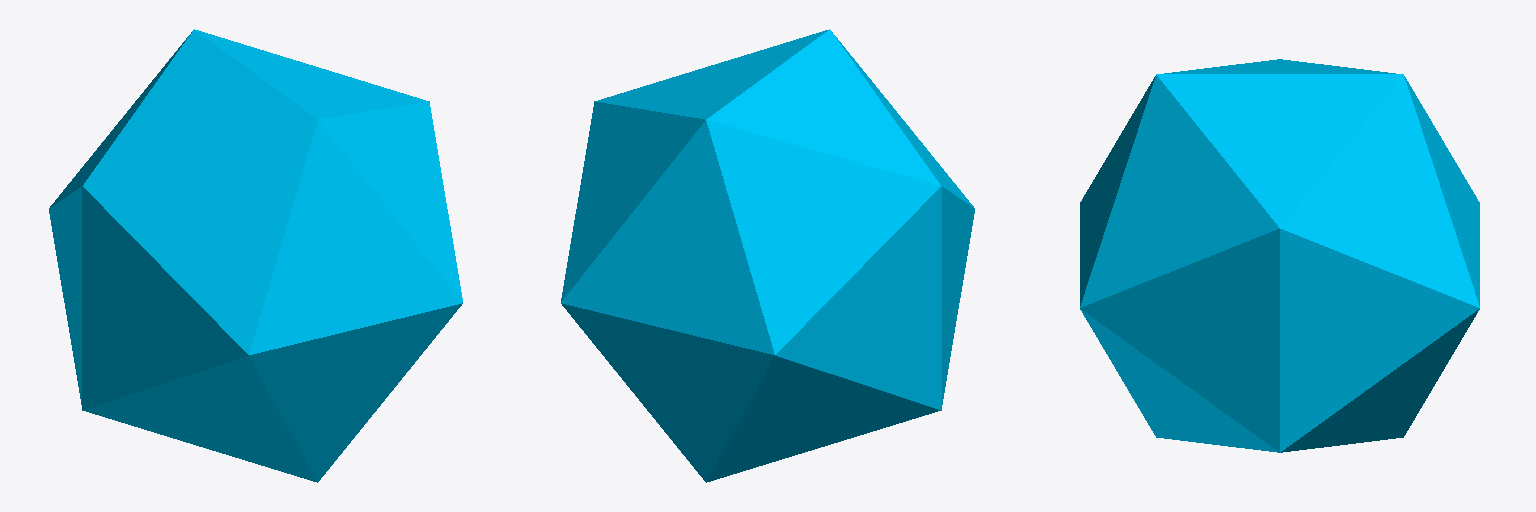
File: Polyhedron.obj
3 renders of one model, left to right at view 1: azimuth 30°, elevation 25°; view 2: azimuth 150°, elevation 25°; view 3: azimuth 270°, elevation 25°, orthographic.
Visible parts, largest first — view 1: 000_Polyhedron; view 2: 000_Polyhedron; view 3: 000_Polyhedron.
Boxes of the visible parts, <box> form: 000_Polyhedron: <box>49,29,462,482</box>; 000_Polyhedron: <box>561,29,974,482</box>; 000_Polyhedron: <box>1080,59,1479,452</box>.
Bounding box in the file's own units: 85.07 × 85.07 × 85.07.